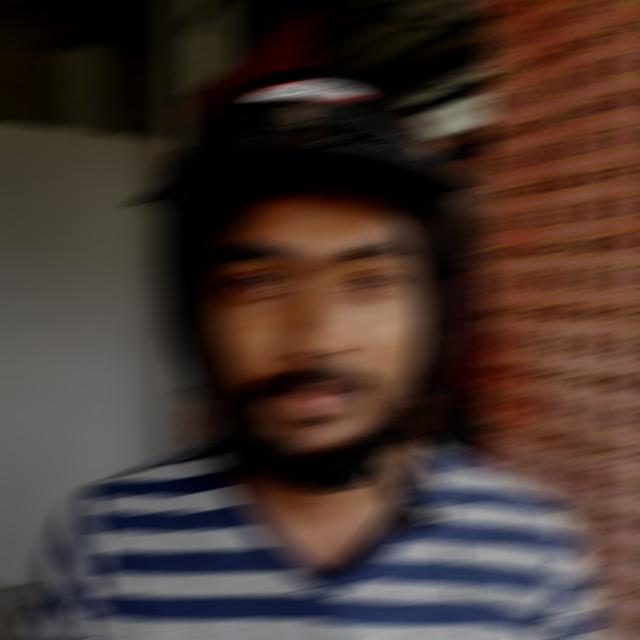With Helmet: (128, 66, 488, 443)
